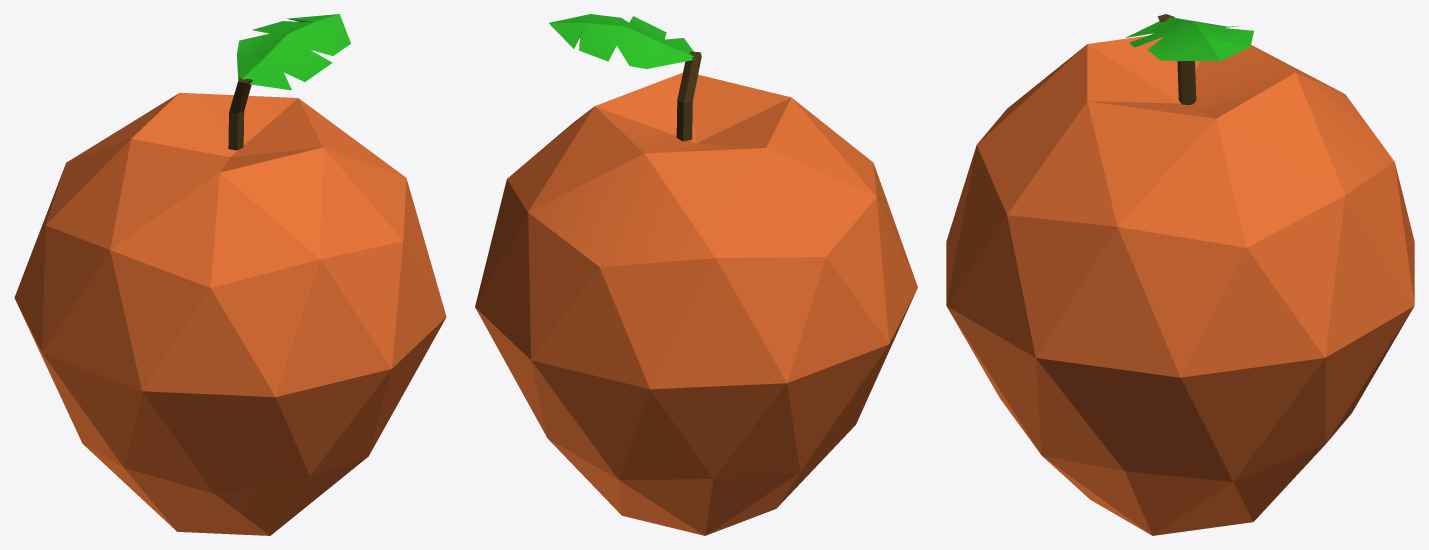
File: Guvava full.fbx
3 views of the same model, side by side, from view 1: azimuth 30°, elevation 25°; view 2: azimuth 150°, elevation 25°; view 3: azimuth 270°, elevation 25° (orthographic). The views are drawn at different scales.
Visible parts, largest first — view 1: Guvava; view 2: Guvava; view 3: Guvava.
Part boxes in pixels (bbox=[...]): Guvava: bbox=[14, 14, 446, 535]; Guvava: bbox=[475, 14, 917, 535]; Guvava: bbox=[946, 14, 1414, 535].
Bounding box in the file's own units: 214 × 246 × 204.
